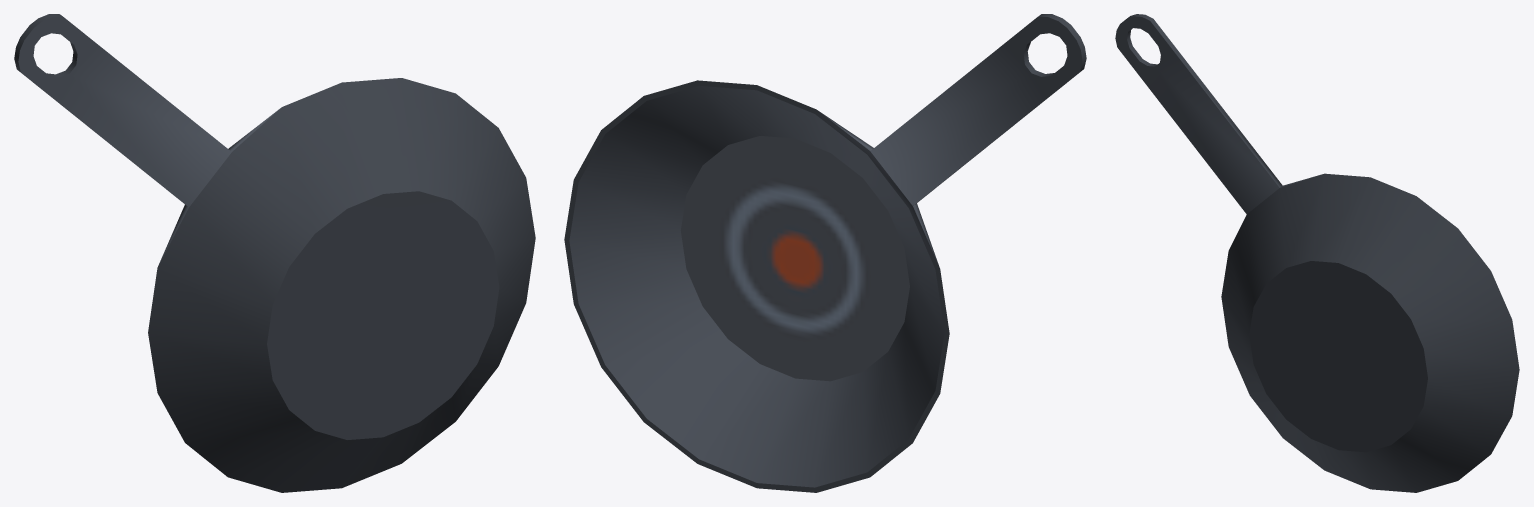
The model's file is back_acc_19.FBX.
3 renders of one model, left to right at view 1: azimuth 30°, elevation 25°; view 2: azimuth 150°, elevation 25°; view 3: azimuth 330°, elevation 25°, orthographic. The views are drawn at different scales.
Visible parts, largest first — view 1: back_acc_19; view 2: back_acc_19; view 3: back_acc_19.
Boxes of the visible parts, bbox=[...] form: back_acc_19: bbox=[14, 14, 535, 492]; back_acc_19: bbox=[564, 14, 1086, 492]; back_acc_19: bbox=[1115, 14, 1519, 492].
Bounding box in the file's own units: 24.93 × 24.93 × 3.43.
